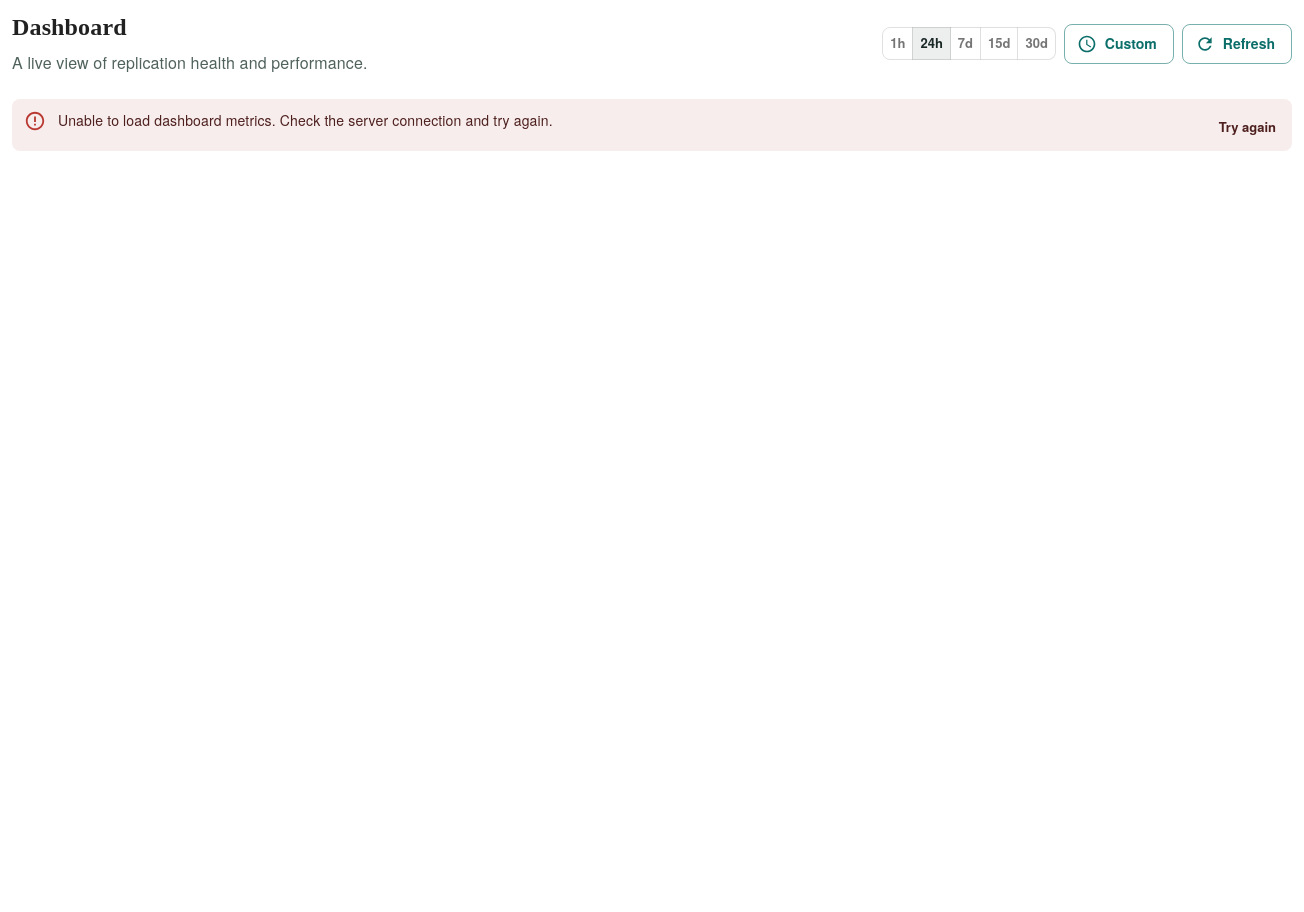
Test: DashboardPage › offers retry when dashboard metrics cannot be loaded
Expected: the message shows "Unable to load dashboard metrics.", [58, 110, 553, 130]
Step 1. Click the button "Try again" → (1247, 127), box [1207, 111, 1288, 143]
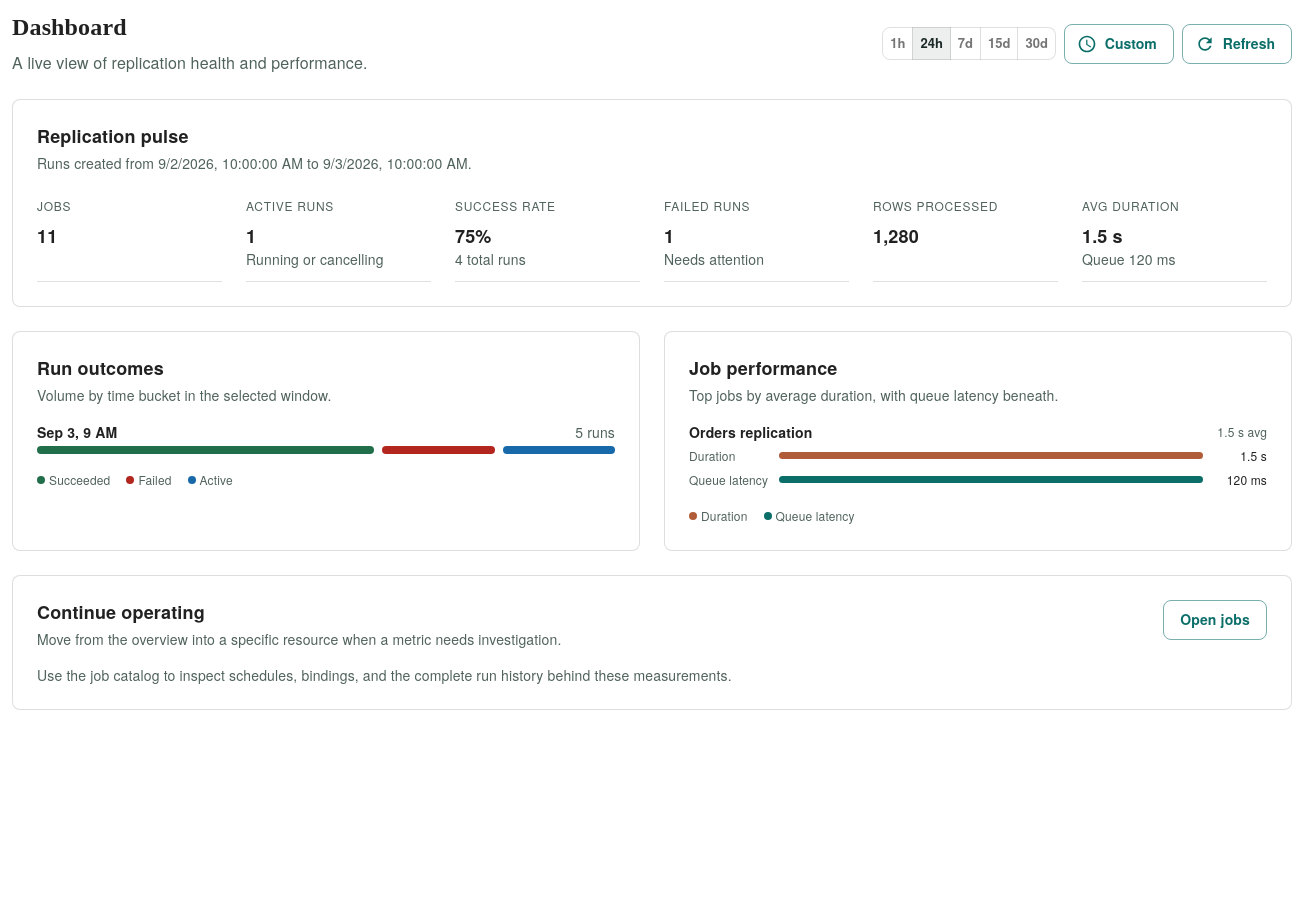
Now the heading "Replication pulse" is shown, box [37, 123, 189, 149]
